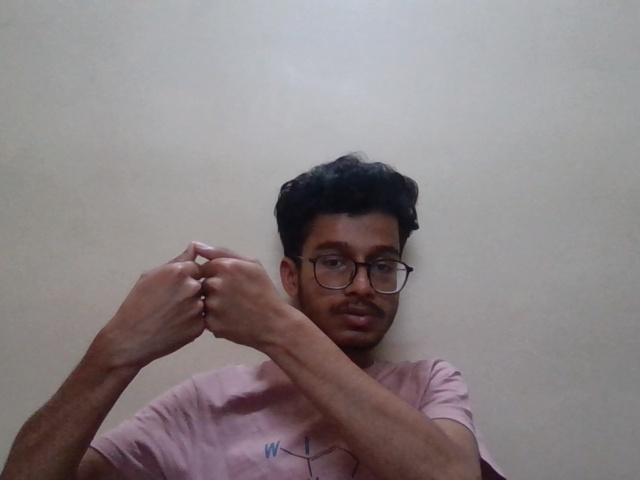sorry: (101, 242, 311, 382)
